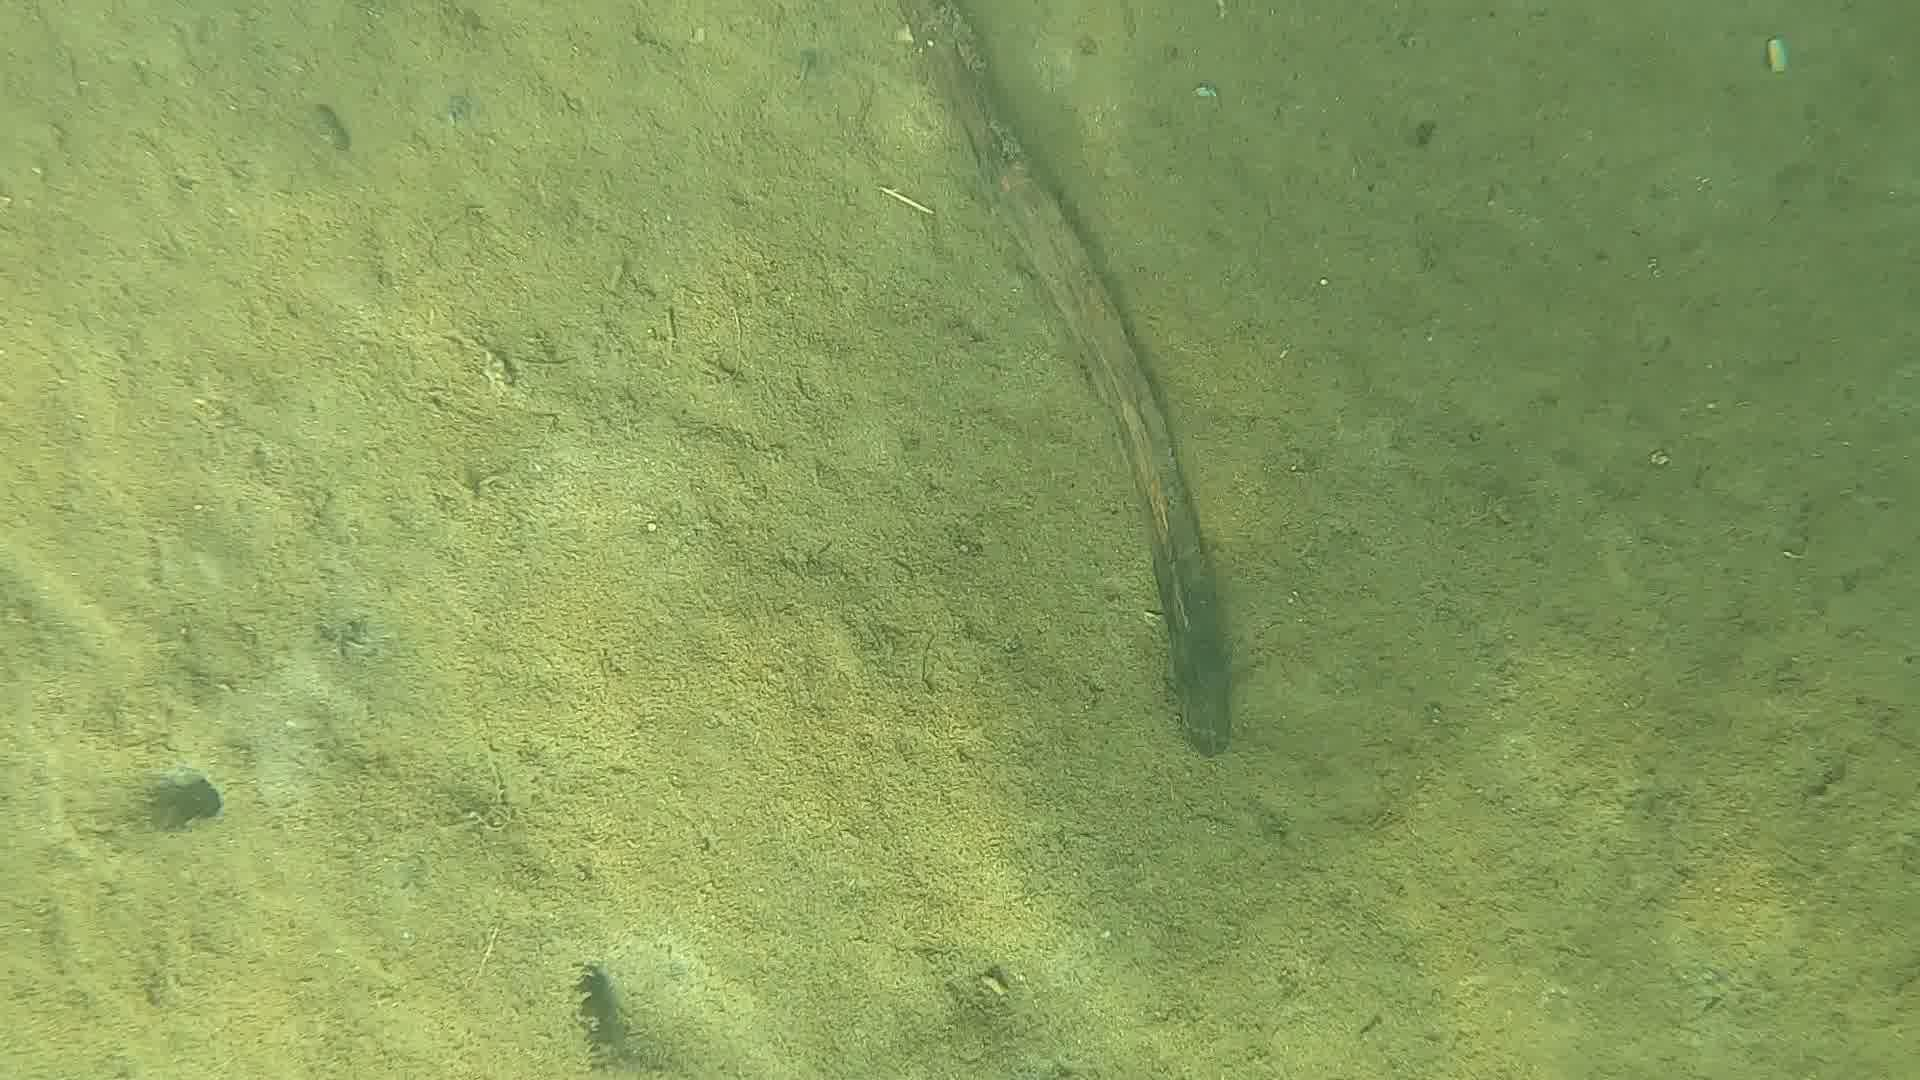wood: (894, 0, 1232, 758)
